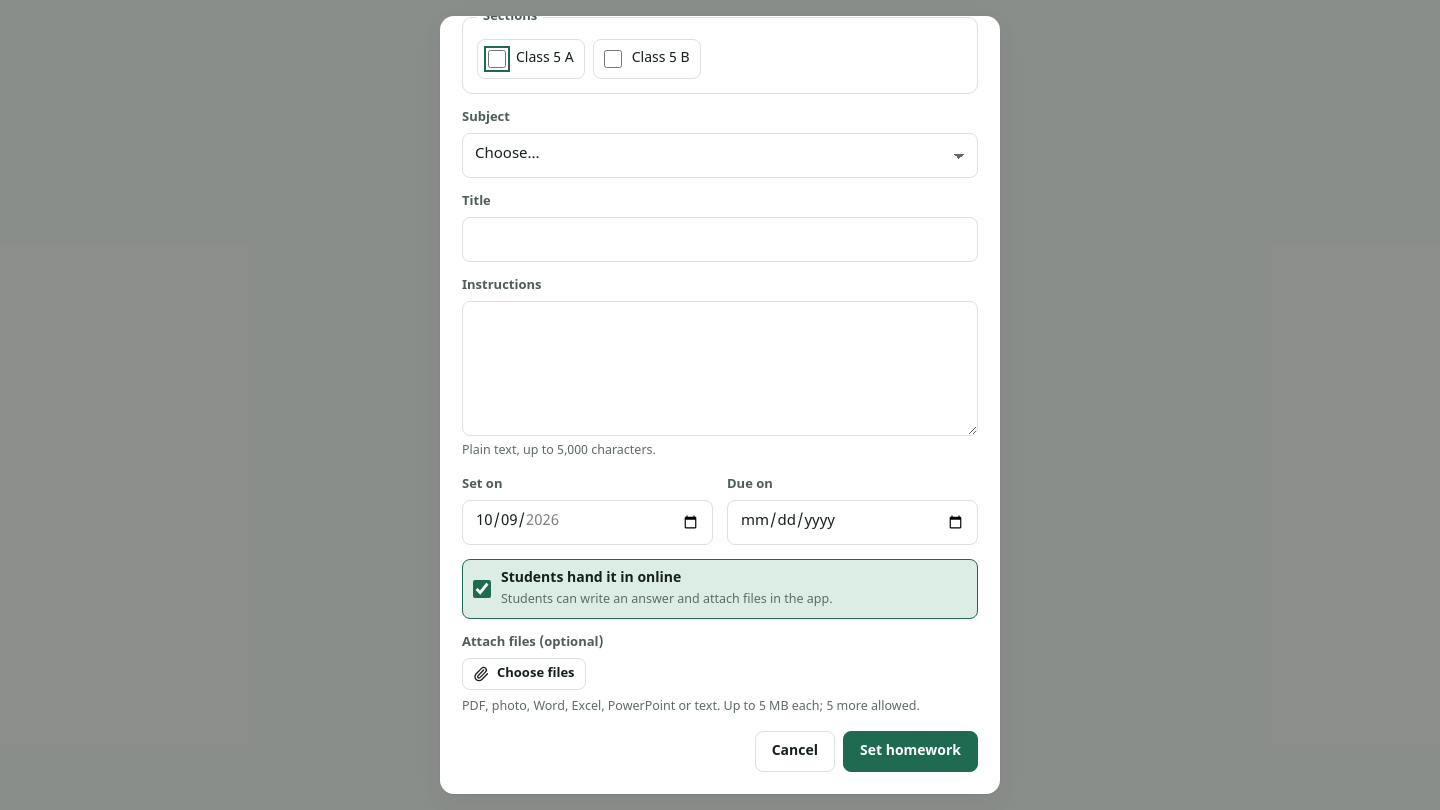
Test: HomeworkFormDialog › shows what is missing and sends nothing
(page scrolled)
Click the button with test id "homework-save". click: {"x": 910, "y": 751}
box: [843, 731, 978, 772]
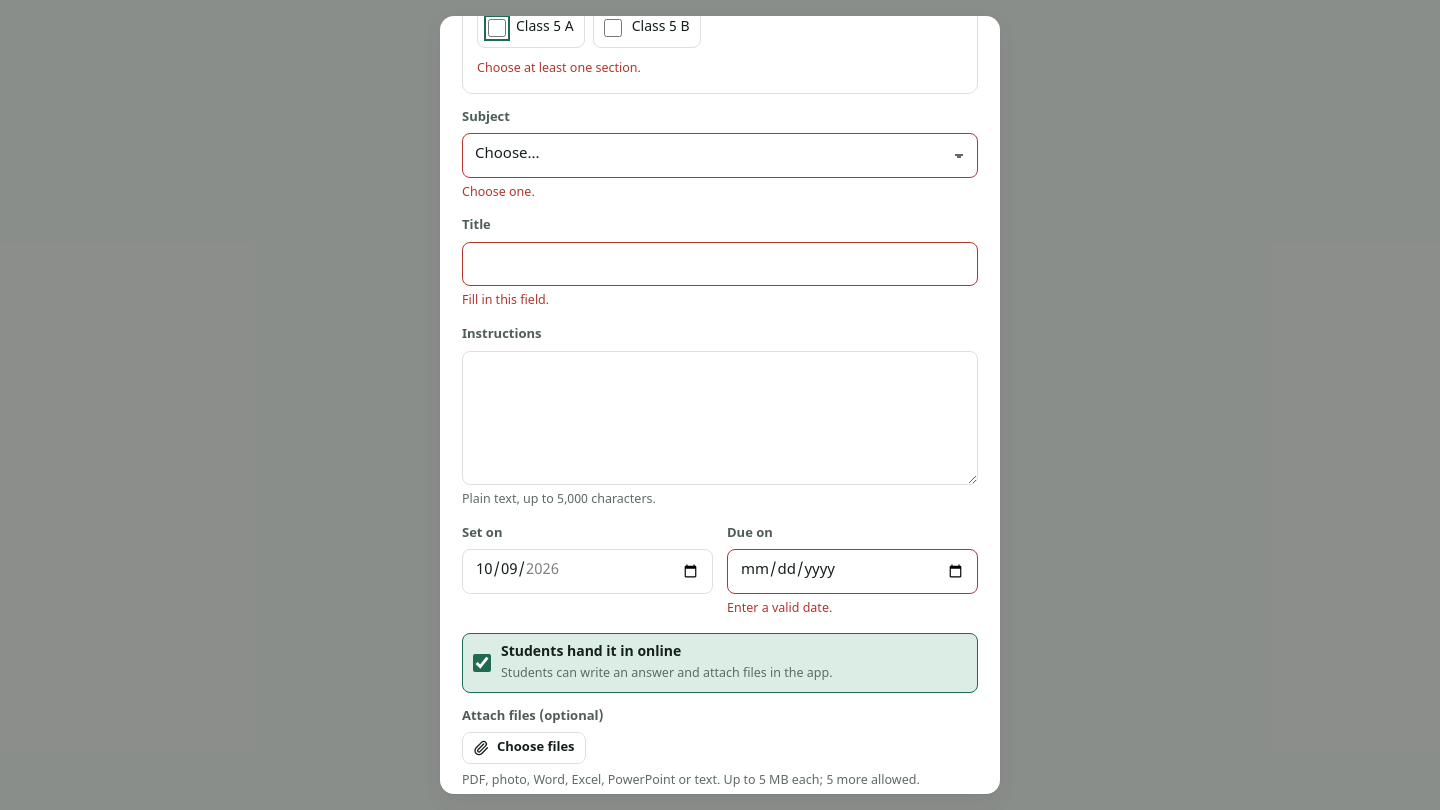
Expected: the text "Choose at least one section." is shown, [477, 61, 641, 77]
Expected: the text "Fill in this field." is shown, [462, 293, 549, 309]
Expected: the text "Enter a valid date." is shown, [727, 601, 832, 617]
